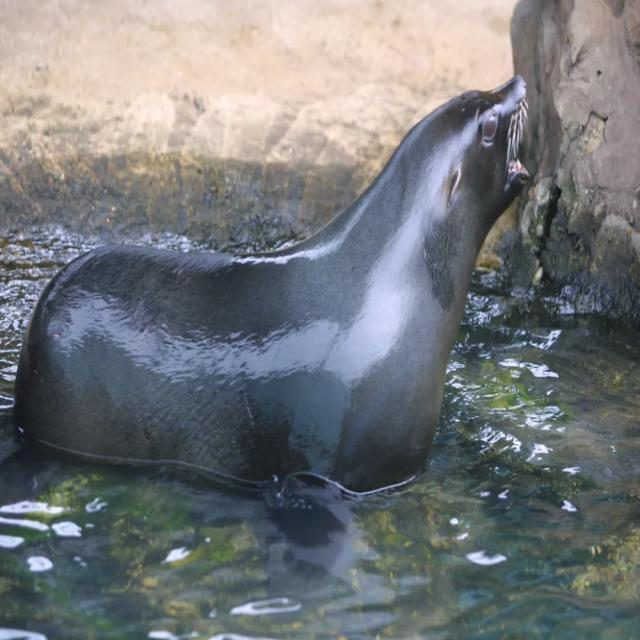WaterDog: (14, 68, 534, 484)
